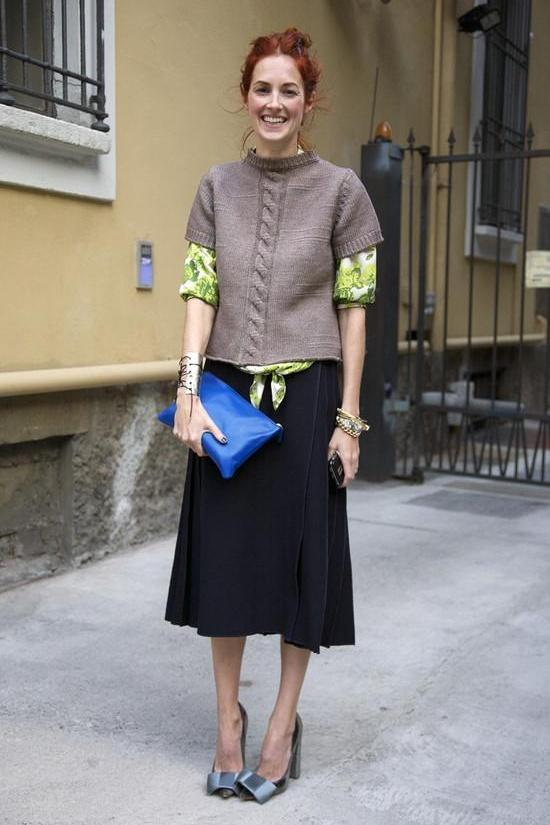skirt: (162, 354, 356, 654)
sweater: (184, 152, 383, 366)
